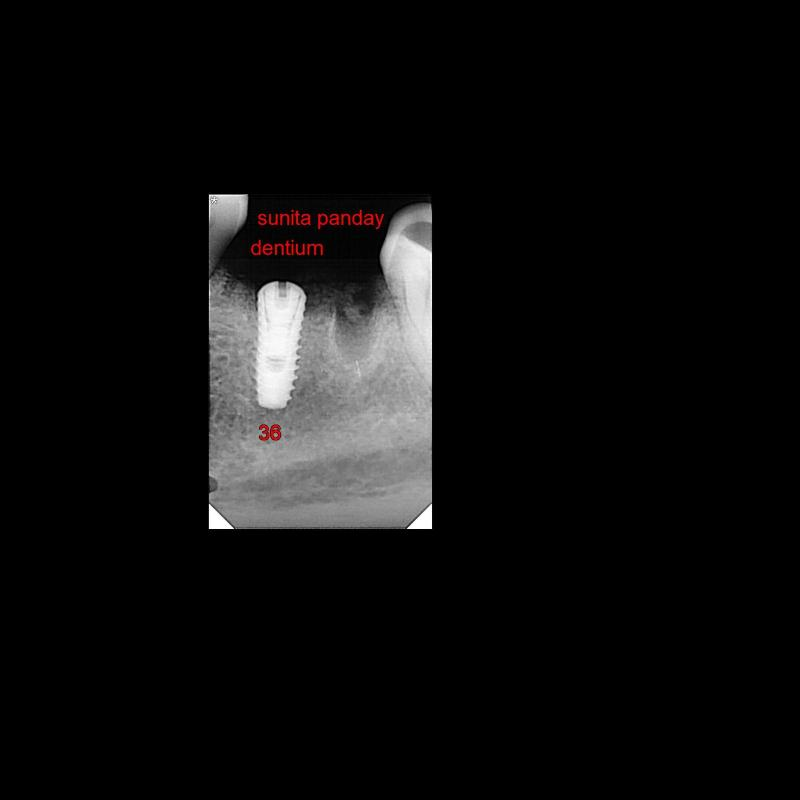Dentium: (248, 278, 310, 410)
